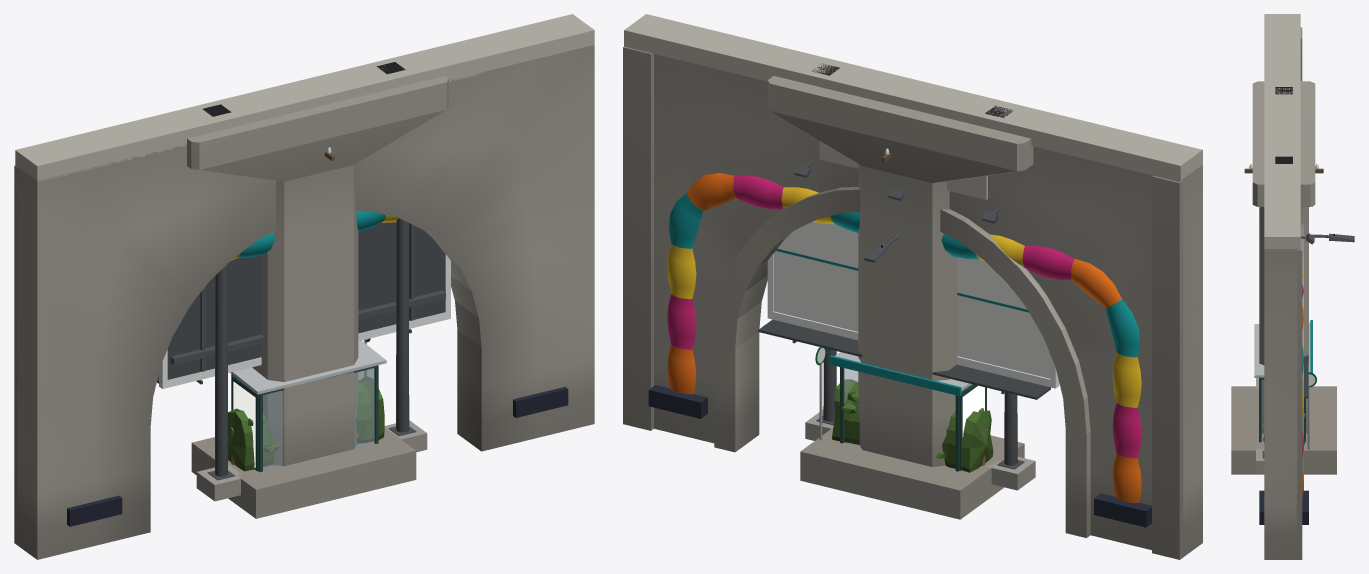
File: roadside_kit.glb
3 renders of one model, left to right at view 1: azimuth 30°, elevation 25°; view 2: azimuth 150°, elevation 25°; view 3: azimuth 270°, elevation 25°, orthographic. The views are drawn at different scales.
Parts seen in each view (by area): view 1: Tunnel_Portal, Bridge_Pier, Billboard, Bus_Stop, Checkpoint_Arch, Hedge; view 2: Tunnel_Portal, Bridge_Pier, Checkpoint_Arch, Billboard, Bus_Stop, Hedge; view 3: Tunnel_Portal, Bridge_Pier, Bus_Stop, Checkpoint_Arch, Billboard, Lamp_Street.
Boxes of the visible parts, x1,y1,x2,y2 form: Tunnel_Portal: [14, 14, 594, 559]; Bridge_Pier: [187, 62, 448, 518]; Billboard: [157, 218, 450, 501]; Bus_Stop: [230, 338, 386, 472]; Checkpoint_Arch: [67, 211, 568, 526]; Hedge: [228, 376, 384, 471]; Tunnel_Portal: [623, 14, 1202, 559]; Bridge_Pier: [767, 63, 1033, 519]; Checkpoint_Arch: [648, 173, 1151, 527]; Billboard: [758, 162, 1059, 490]; Bus_Stop: [815, 346, 986, 471]; Hedge: [832, 379, 993, 472]; Tunnel_Portal: [1264, 14, 1303, 559]; Bridge_Pier: [1231, 81, 1336, 474]; Bus_Stop: [1254, 320, 1316, 449]; Checkpoint_Arch: [1259, 270, 1308, 524]; Billboard: [1256, 206, 1314, 474]; Lamp_Street: [1312, 233, 1354, 242].
Size of the model in its own units: 16 by 10.8 by 3.74.
